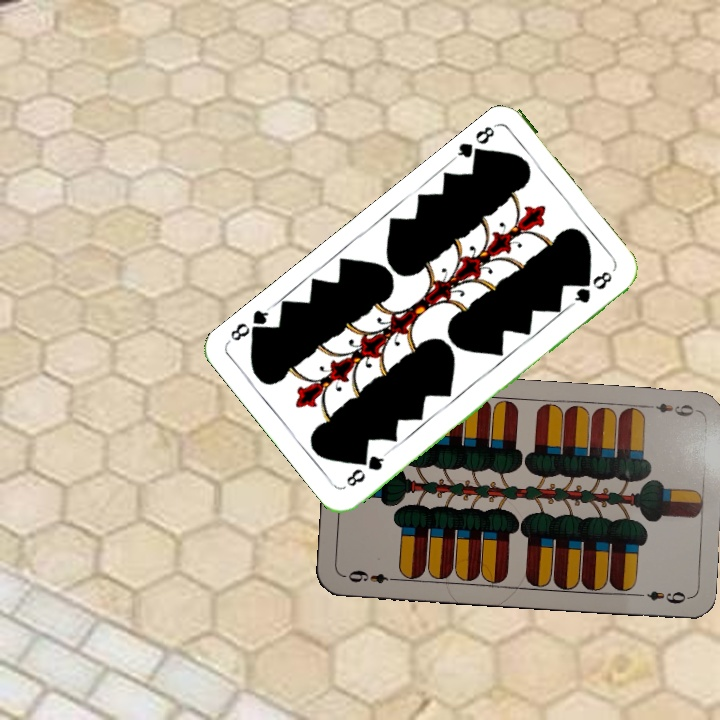E9: (341, 566, 400, 587), (642, 399, 701, 420)
G8: (449, 120, 499, 165), (342, 448, 390, 490)
